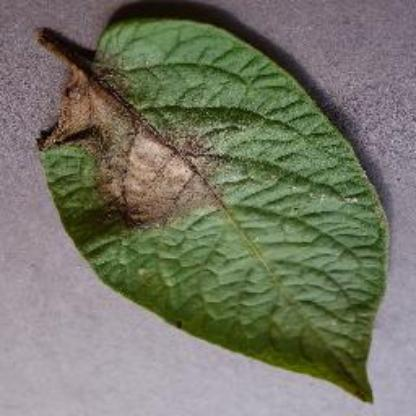Late-Blight: (32, 0, 404, 370)
